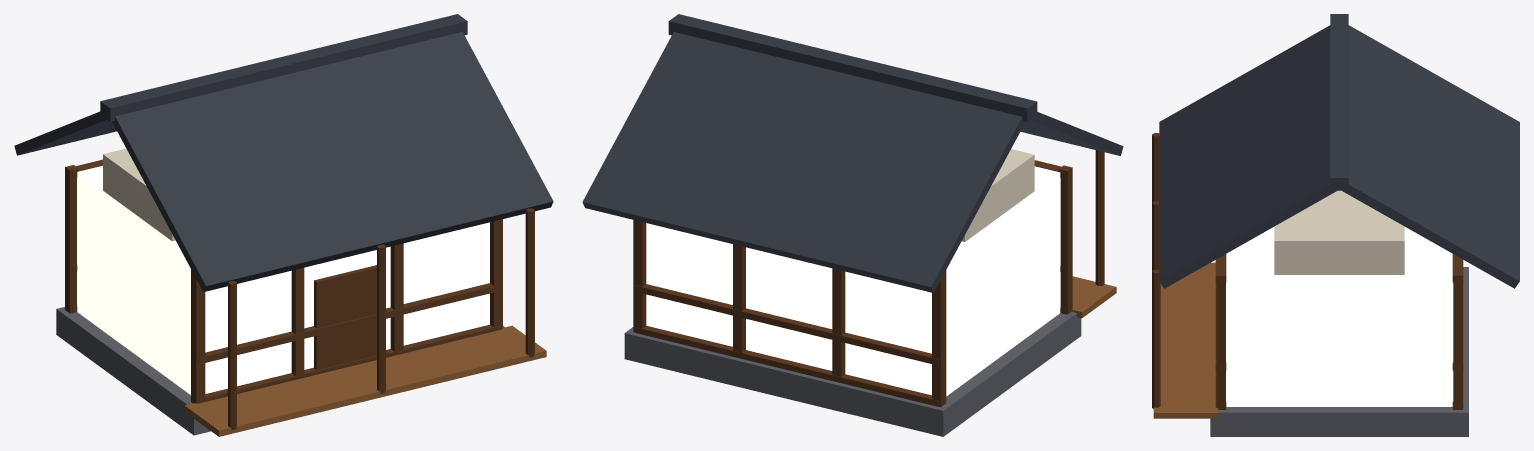
The model's file is house.glb.
3 renders of one model, left to right at view 1: azimuth 30°, elevation 25°; view 2: azimuth 150°, elevation 25°; view 3: azimuth 270°, elevation 25°, orthographic. The views are drawn at different scales.
Visible parts, largest first — view 1: HouseMesh; view 2: HouseMesh; view 3: HouseMesh.
Part boxes in pixels (<box>): HouseMesh: <box>14,14,553,436</box>; HouseMesh: <box>582,14,1123,436</box>; HouseMesh: <box>1152,14,1519,436</box>.
Bounding box in the file's own units: 7.2 × 5.49 × 6.83.
